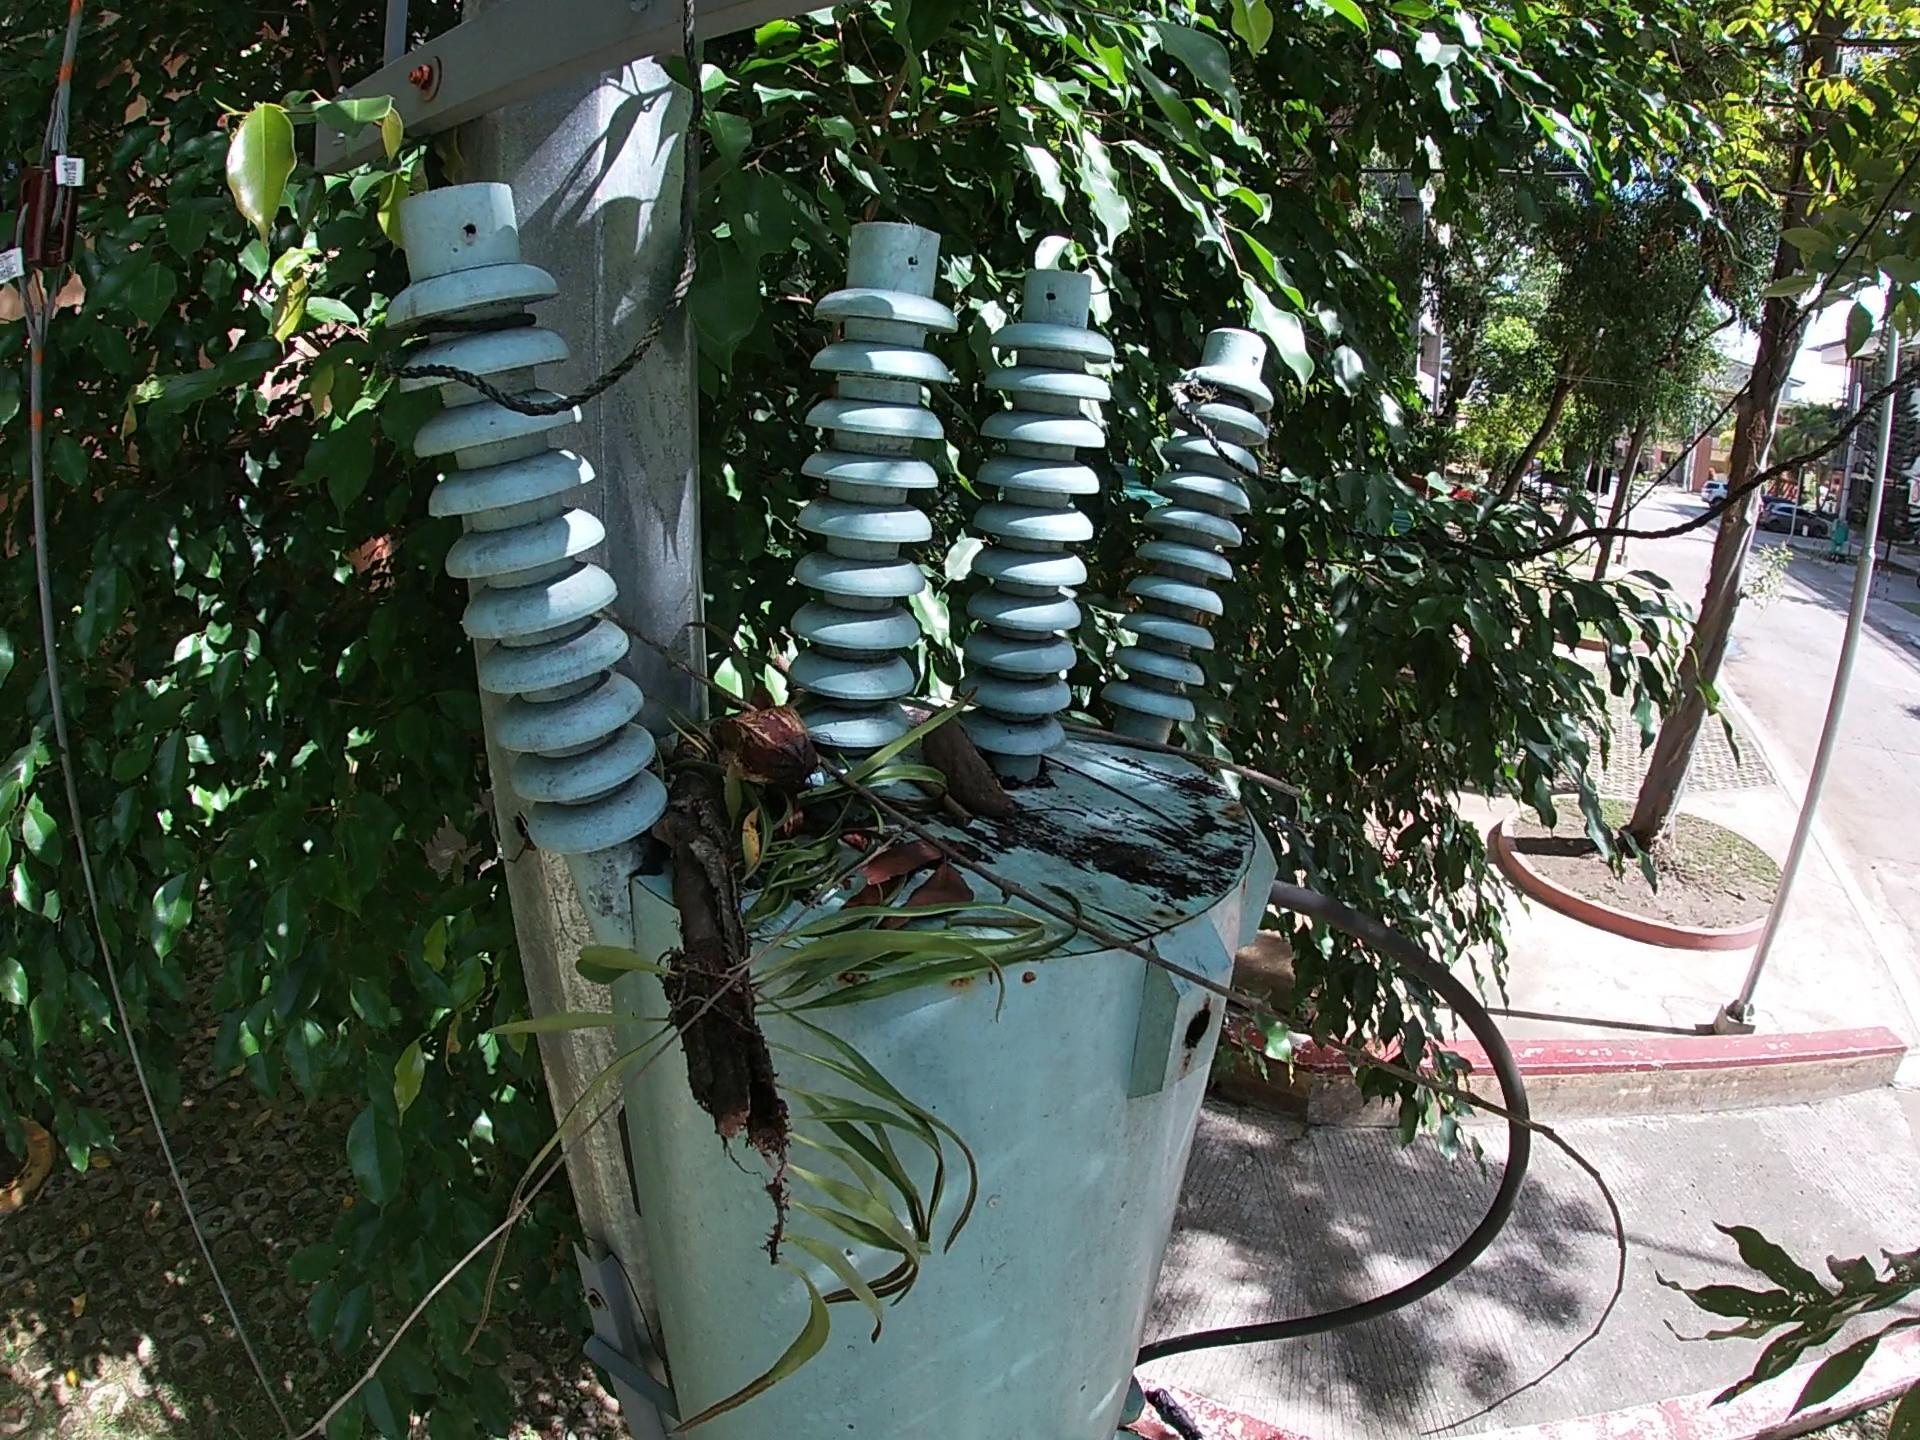branch with leaves: (650, 585, 768, 1224)
mahogany fruit: (901, 711, 1064, 873), (711, 684, 863, 821)
tree branch: (587, 566, 1166, 985), (1019, 675, 1288, 852), (915, 735, 1001, 855)
